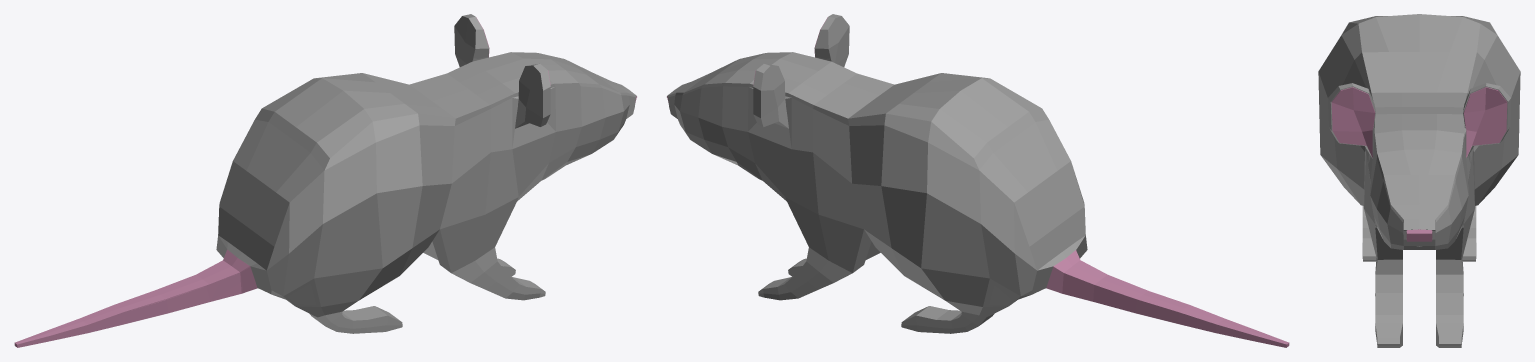
File: rattest.fbx
3 renders of one model, left to right at view 1: azimuth 30°, elevation 25°; view 2: azimuth 150°, elevation 25°; view 3: azimuth 270°, elevation 25°, orthographic. The views are drawn at different scales.
Parts seen in each view (by area): view 1: Plane; view 2: Plane; view 3: Plane.
Part boxes in pixels (x1=…): Plane: x1=14, y1=14, x2=636, y2=347; Plane: x1=667, y1=14, x2=1289, y2=347; Plane: x1=1318, y1=14, x2=1520, y2=347.
Size of the model in its own units: 836 by 318 by 230.
